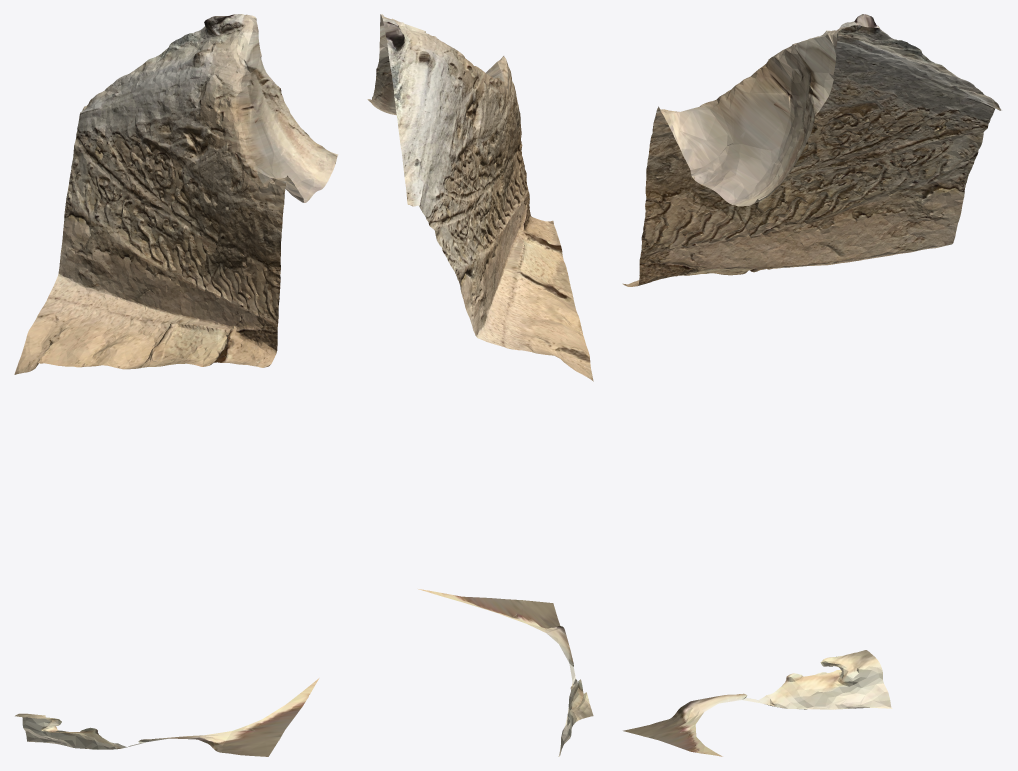
File: tile_4_2.obj
3 views of the same model, side by side, from view 1: azimuth 30°, elevation 25°; view 2: azimuth 150°, elevation 25°; view 3: azimuth 270°, elevation 25° (orthographic). The views are drawn at different scales.
Parts seen in each view (by area): view 1: texture_0; view 2: texture_0; view 3: texture_0.
Part boxes in pixels (x1,y1,x2,y2): texture_0: (14,14,338,756); texture_0: (367,14,593,756); texture_0: (622,14,1001,756).
Size of the model in its own units: 0.4195 by 0.9999 by 0.436.
Materials: 1 (1 with a texture image).
